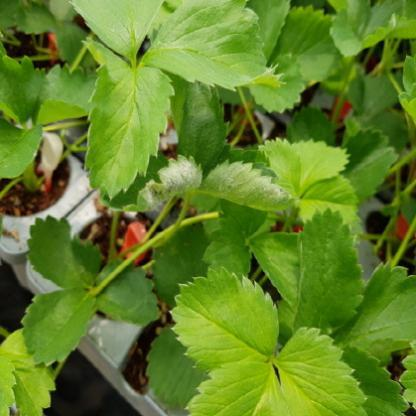Strawberry_Powdery_Mildew_Leaf: (195, 159, 297, 212), (123, 154, 203, 214)
